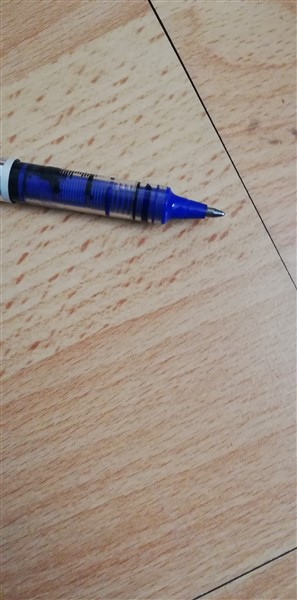pilot kalem: (1, 154, 231, 234)
